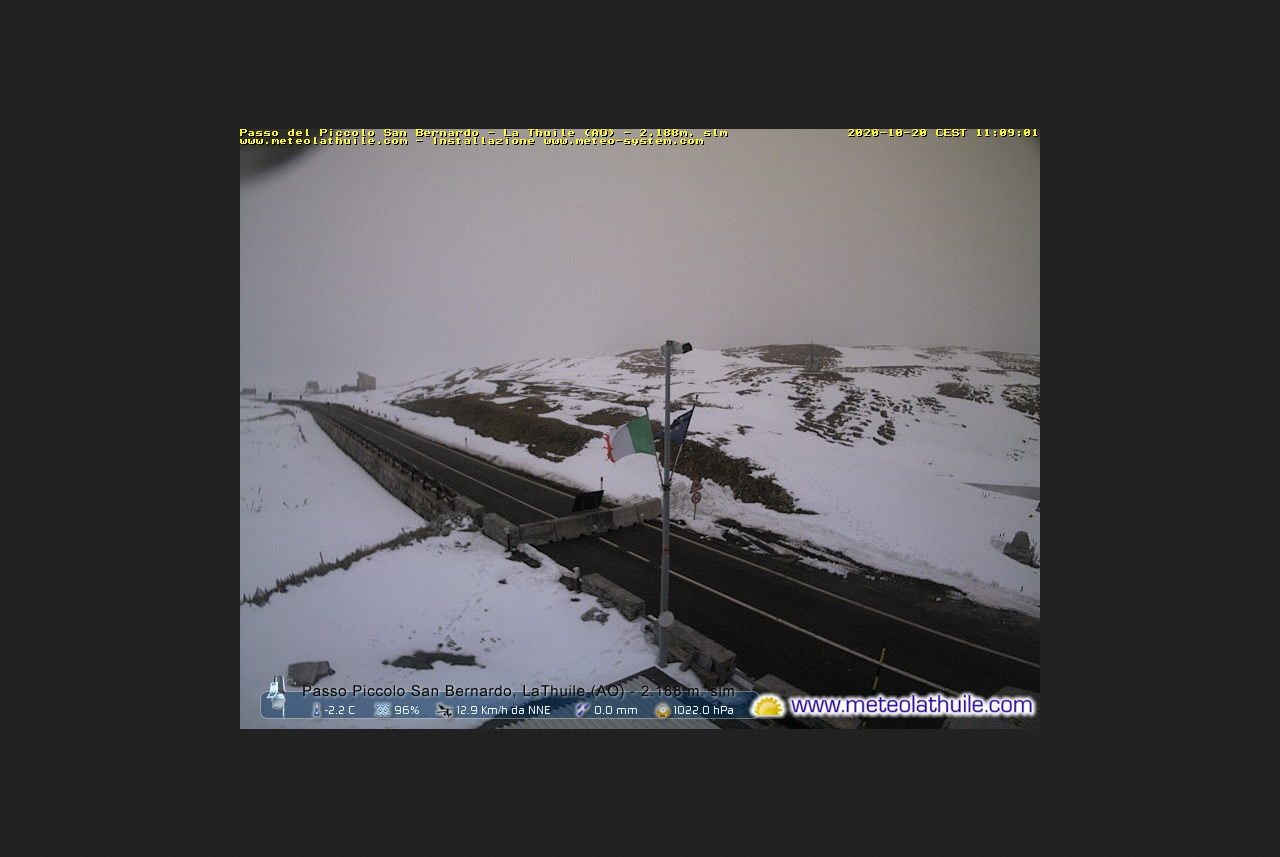maybe: (657, 404, 695, 445)
yes: (603, 415, 658, 466)
